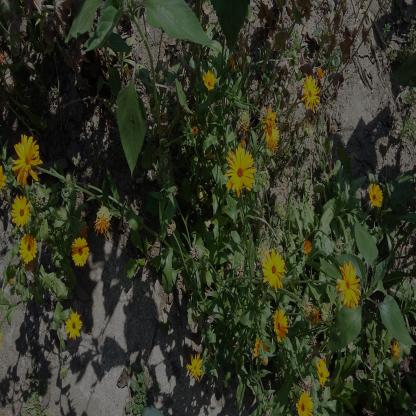marigold: (12, 132, 44, 187), (226, 146, 258, 194), (335, 260, 362, 310), (261, 245, 286, 292), (300, 74, 322, 111), (11, 194, 31, 229), (69, 237, 90, 268), (19, 232, 37, 264), (64, 310, 83, 340), (273, 308, 289, 343), (253, 335, 271, 366), (186, 352, 204, 382), (367, 182, 386, 210), (295, 388, 314, 416), (264, 116, 280, 148), (261, 103, 277, 134), (315, 357, 330, 386), (202, 67, 218, 92)
